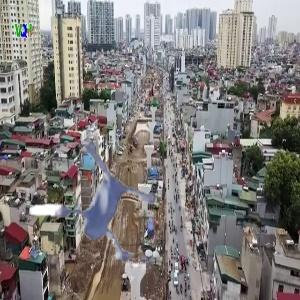drone: (1, 115, 177, 291)
